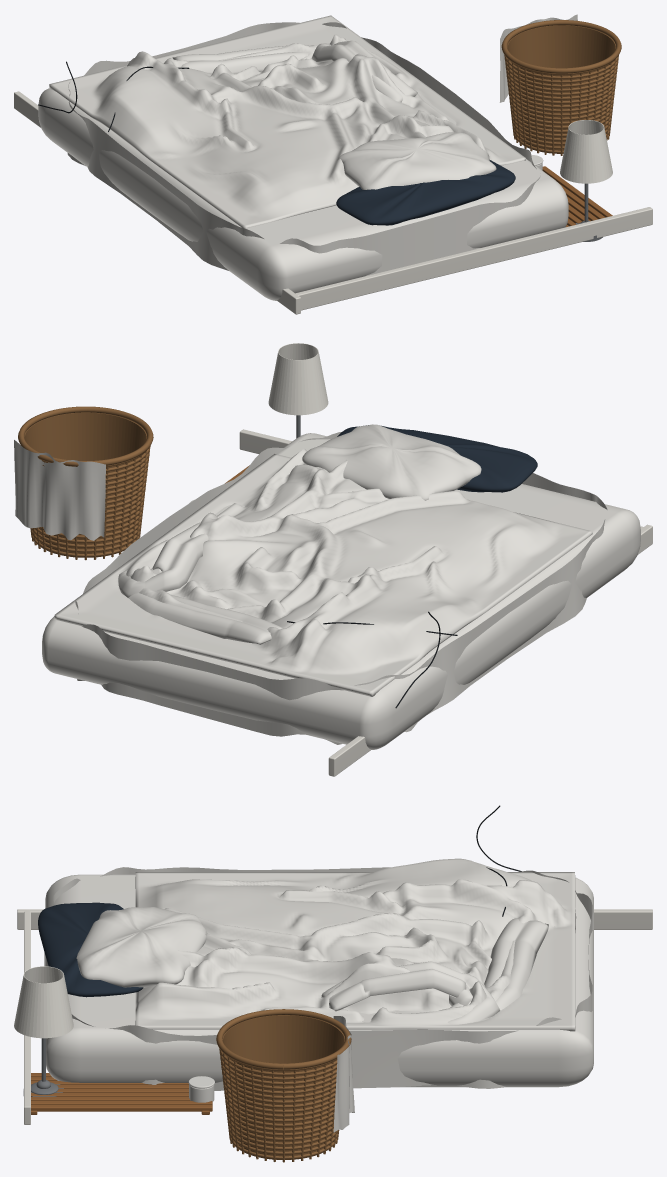
Rendered from model-a0fd21ddaa06.glb.
3 views of the same model, one above another, from view 1: azimuth 30°, elevation 25°; view 2: azimuth 150°, elevation 25°; view 3: azimuth 270°, elevation 25° (orthographic). The views are drawn at different scales.
Parts seen in each view (by area): view 1: bed_0_AUTHORED_completed_duvet_photo_fold_ridges, bed_0_photo-supported-low-floor-mattress, bed_0_observed_loose_sheet_skirt_inferred_folds, headwall_baseboard_candidate, bed_0_AUTHORED_white_head_pillow, hamper_authored_woven_wall_backing, bed_0_AUTHORED_dark_head_pillow, bed_0, custom_0_photo_supported_tapered_shade, hamper_thick_top_rim, bedside_wall_baseboard_candidate, hamper_white_draped_linen (+1 smaller); view 2: bed_0_AUTHORED_completed_duvet_photo_fold_ridges, bed_0_photo-supported-low-floor-mattress, bed_0_observed_loose_sheet_skirt_inferred_folds, bed_0_AUTHORED_white_head_pillow, hamper_white_draped_linen, bed_0, hamper_authored_woven_wall_backing, bed_0_AUTHORED_dark_head_pillow, custom_0_photo_supported_tapered_shade, hamper_thick_top_rim, bedside_wall_baseboard_candidate, headwall_baseboard_candidate; view 3: bed_0_AUTHORED_completed_duvet_photo_fold_ridges, bed_0_photo-supported-low-floor-mattress, bed_0_AUTHORED_white_head_pillow, bed_0_observed_loose_sheet_skirt_inferred_folds, hamper_authored_woven_wall_backing, bed_0, bed_0_AUTHORED_dark_head_pillow, custom_0_photo_supported_tapered_shade, hamper_thick_top_rim, bedside_wall_baseboard_candidate, hamper_white_draped_linen, lamp_floor_tray_observed_slat_08 (+6 smaller).
Boxes of the visible parts, x1,y1,x2,y2 form: bed_0_AUTHORED_completed_duvet_photo_fold_ridges: [49, 15, 525, 228]; bed_0_photo-supported-low-floor-mattress: [38, 88, 568, 300]; bed_0_observed_loose_sheet_skirt_inferred_folds: [67, 22, 540, 275]; headwall_baseboard_candidate: [291, 207, 652, 310]; bed_0_AUTHORED_white_head_pillow: [337, 132, 496, 189]; hamper_authored_woven_wall_backing: [507, 25, 615, 150]; bed_0_AUTHORED_dark_head_pillow: [336, 160, 515, 225]; bed_0: [172, 40, 417, 102]; custom_0_photo_supported_tapered_shade: [560, 120, 612, 183]; hamper_thick_top_rim: [501, 20, 621, 73]; bedside_wall_baseboard_candidate: [14, 91, 300, 314]; hamper_white_draped_linen: [499, 14, 577, 102]; bed_0_AUTHORED_completed_duvet_photo_fold_ridges: [54, 448, 592, 696]; bed_0_photo-supported-low-floor-mattress: [42, 433, 640, 749]; bed_0_observed_loose_sheet_skirt_inferred_folds: [75, 432, 607, 744]; bed_0_AUTHORED_white_head_pillow: [302, 424, 481, 500]; hamper_white_draped_linen: [14, 440, 105, 540]; bed_0: [118, 522, 282, 644]; hamper_authored_woven_wall_backing: [24, 412, 146, 553]; bed_0_AUTHORED_dark_head_pillow: [337, 425, 537, 492]; custom_0_photo_supported_tapered_shade: [268, 343, 328, 415]; hamper_thick_top_rim: [18, 406, 153, 466]; bedside_wall_baseboard_candidate: [328, 524, 652, 776]; headwall_baseboard_candidate: [239, 429, 647, 529]; bed_0_AUTHORED_completed_duvet_photo_fold_ridges: [135, 858, 576, 1031]; bed_0_photo-supported-low-floor-mattress: [45, 874, 593, 1087]; bed_0_AUTHORED_white_head_pillow: [76, 907, 207, 987]; bed_0_observed_loose_sheet_skirt_inferred_folds: [44, 867, 592, 1090]; hamper_authored_woven_wall_backing: [222, 1015, 344, 1156]; bed_0: [321, 918, 548, 1024]; bed_0_AUTHORED_dark_head_pillow: [38, 902, 143, 997]; custom_0_photo_supported_tapered_shade: [14, 966, 73, 1038]; hamper_thick_top_rim: [216, 1009, 351, 1069]; bedside_wall_baseboard_candidate: [17, 909, 652, 929]; hamper_white_draped_linen: [333, 1016, 354, 1132]; lamp_floor_tray_observed_slat_08: [31, 1105, 212, 1111].
Bounding box in the file's own units: 2.18 × 0.5086 × 2.37.
